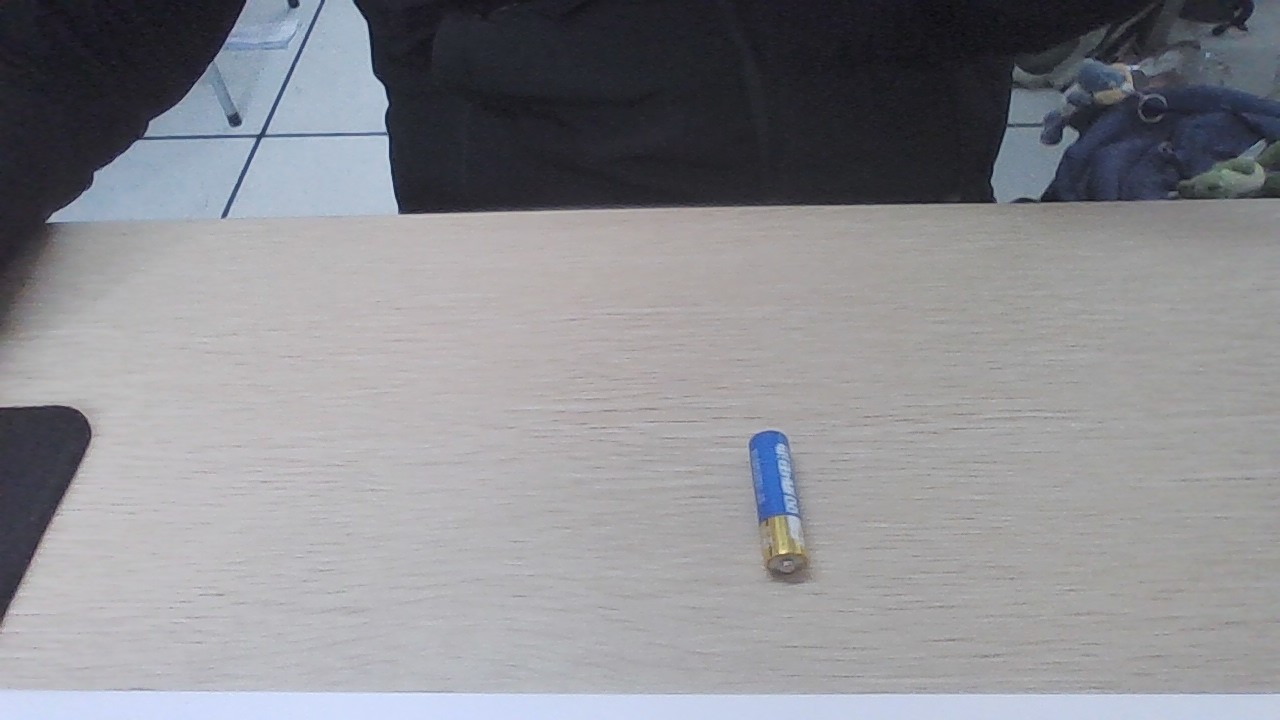YH-battery: (744, 431, 813, 575)
